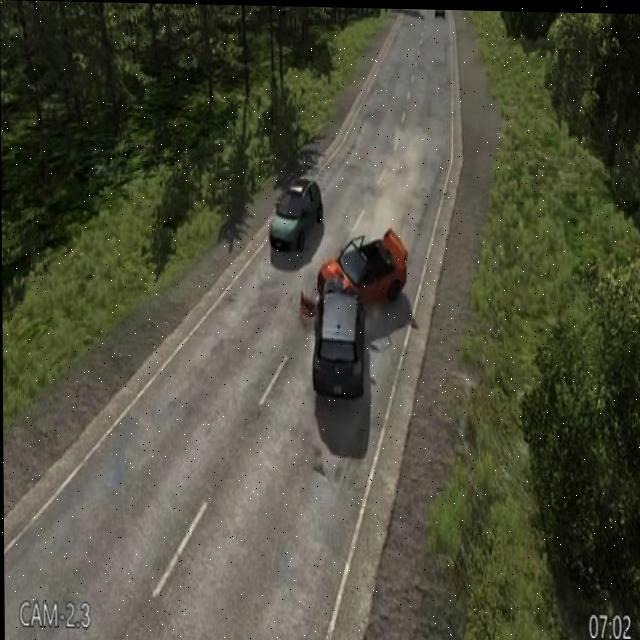multiple_accident: (299, 196, 428, 422), (264, 165, 332, 272)
